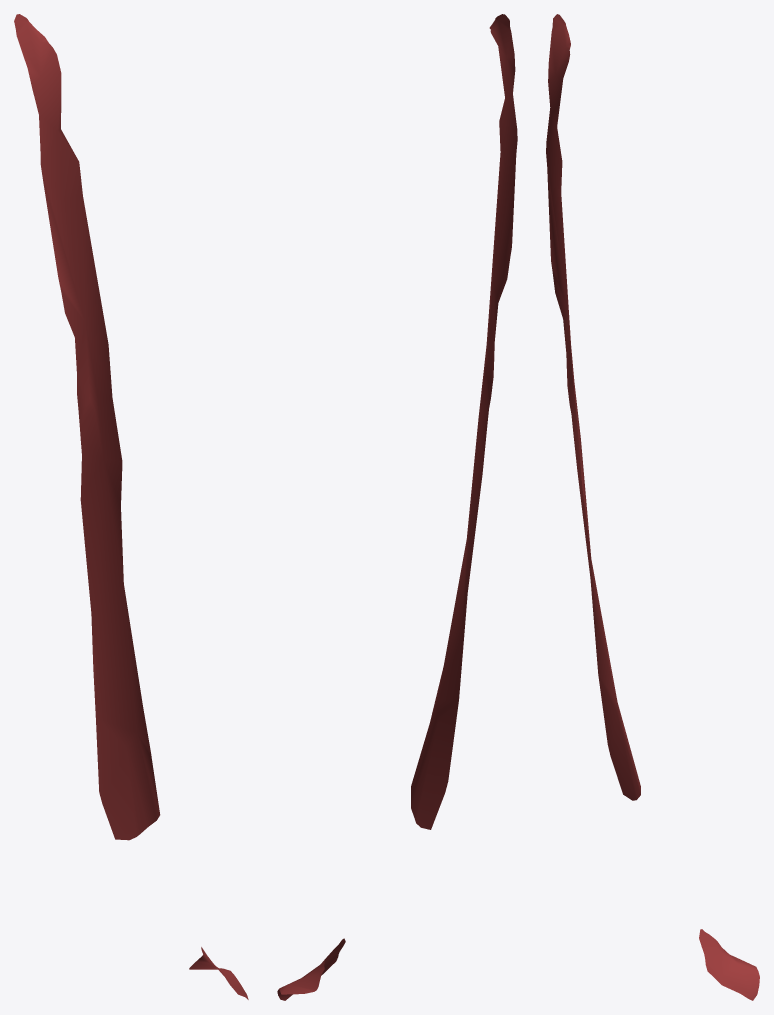
The model's file is adductor-magnus-er.glb.
The picture shows the model from 3 angles, left to right: view 1: azimuth 30°, elevation 25°; view 2: azimuth 150°, elevation 25°; view 3: azimuth 330°, elevation 25°; orthographic projection. The views are drawn at different scales.
Visible parts, largest first — view 1: Adductor magnus.er; view 2: Adductor magnus.er; view 3: Adductor magnus.er.
Part boxes in pixels (bbox=[...]): Adductor magnus.er: bbox=[14, 14, 248, 999]; Adductor magnus.er: bbox=[277, 14, 517, 1000]; Adductor magnus.er: bbox=[546, 14, 759, 1000].
Bounding box in the file's own units: 0.0736 × 0.3178 × 0.028.
